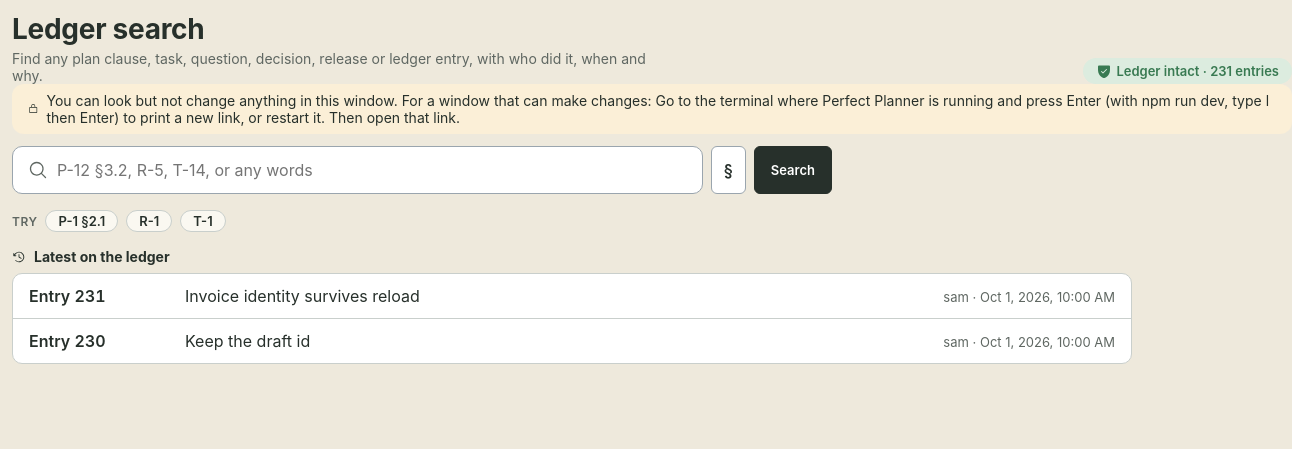
it: Ledger search screen › free text lists ranked matches; an unknown reference explains why
Step 1. Type "reload" into the search field named "Reference or words to find" → (357, 170), box [12,146,703,194]
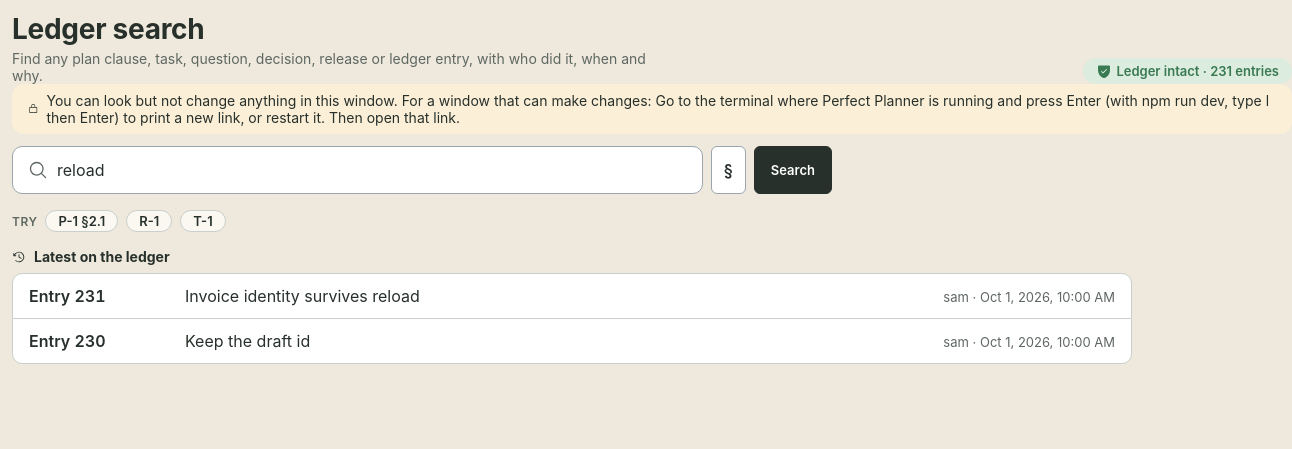
Step 2. Click the button "Search" → (793, 170), box [754,146,832,194]
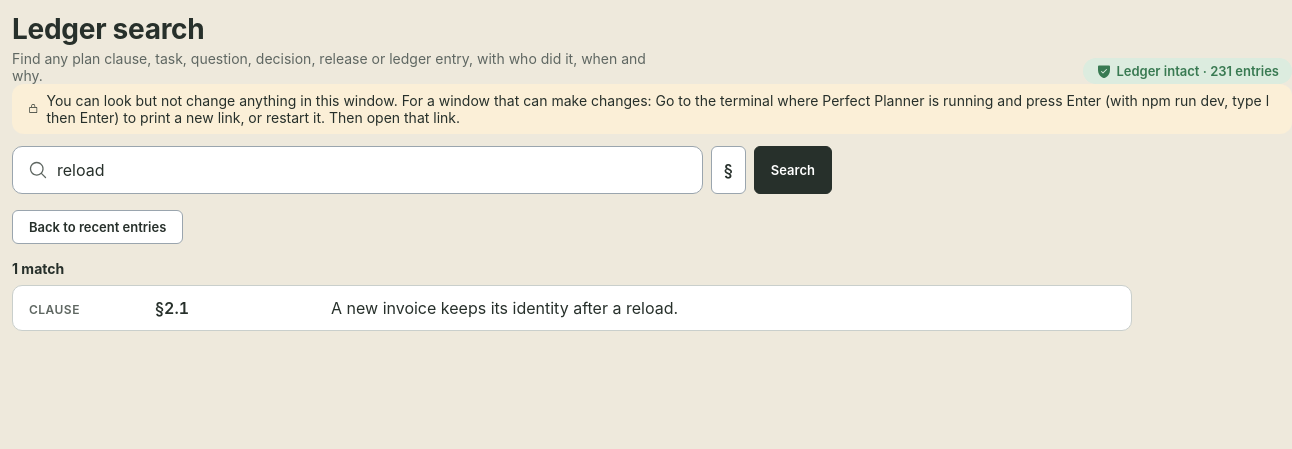
Result: the heading "1 match" is shown at [12,260,64,277]
Result: the button with aria-label "Open §2.1" is shown at [13,286,1131,330]
Step 3. Replace the text in the search field named "Reference or words to find" with "R-9" → (357, 170), box [12,146,703,194]
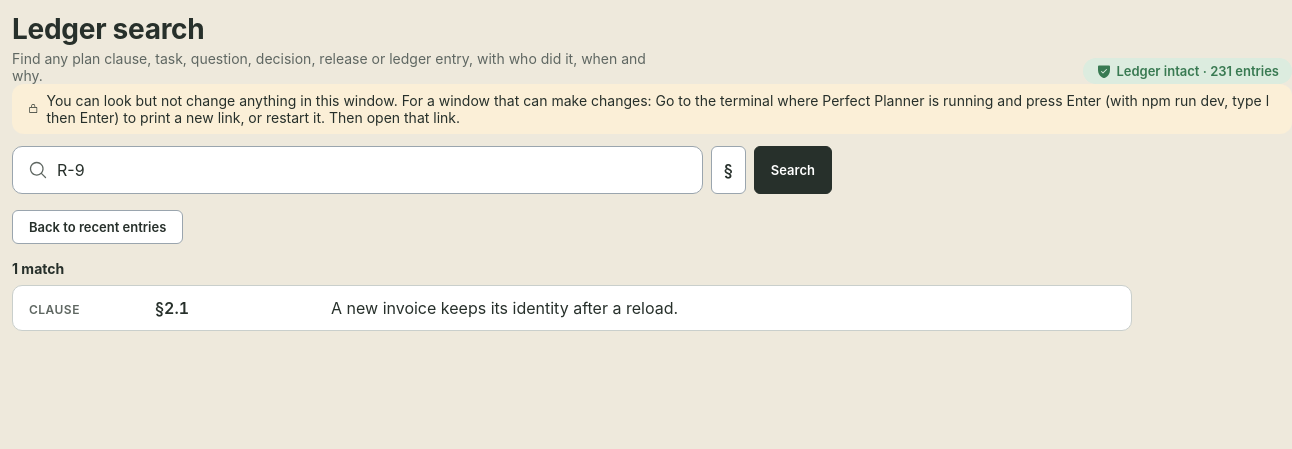
Step 4. Click the button "Search" → (793, 170), box [754,146,832,194]
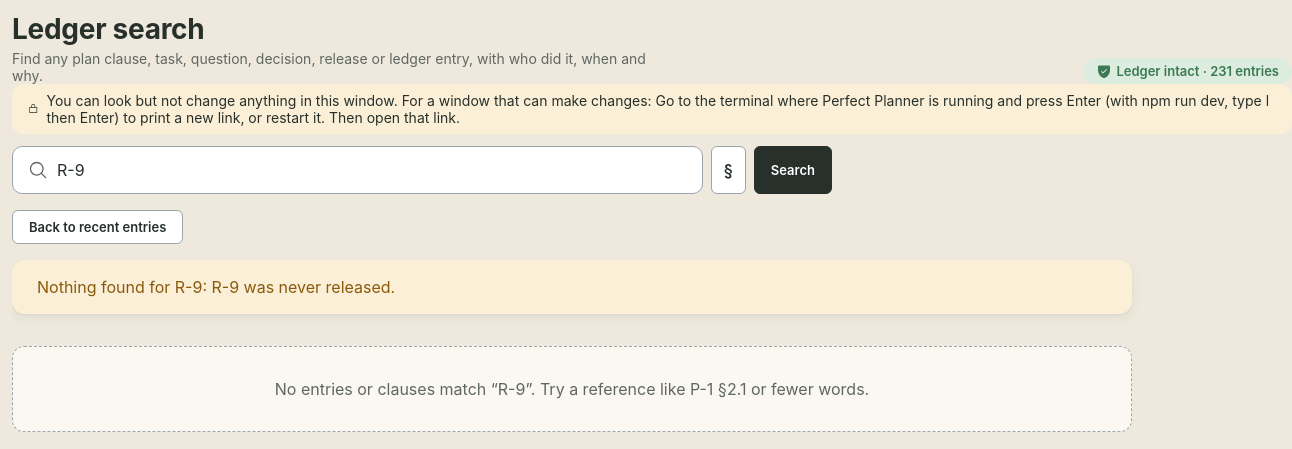
Result: the text "Nothing found for R-9: R-9 was never released." is shown at [12,260,1132,314]
